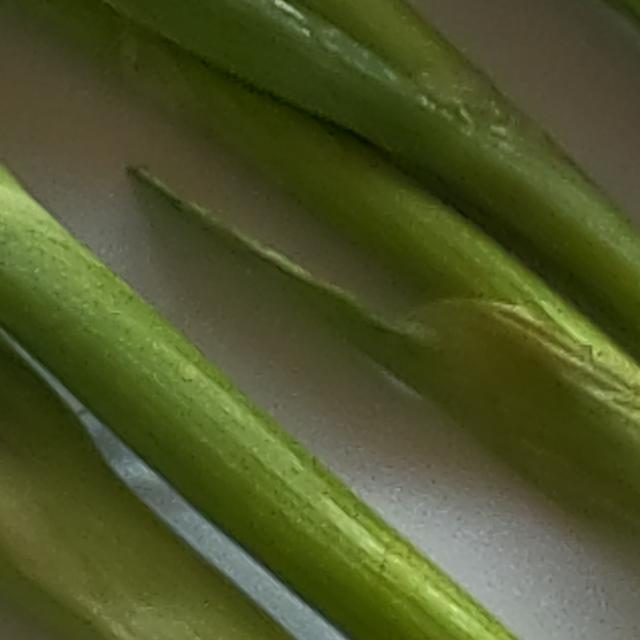green_onion: (0, 156, 539, 640)
